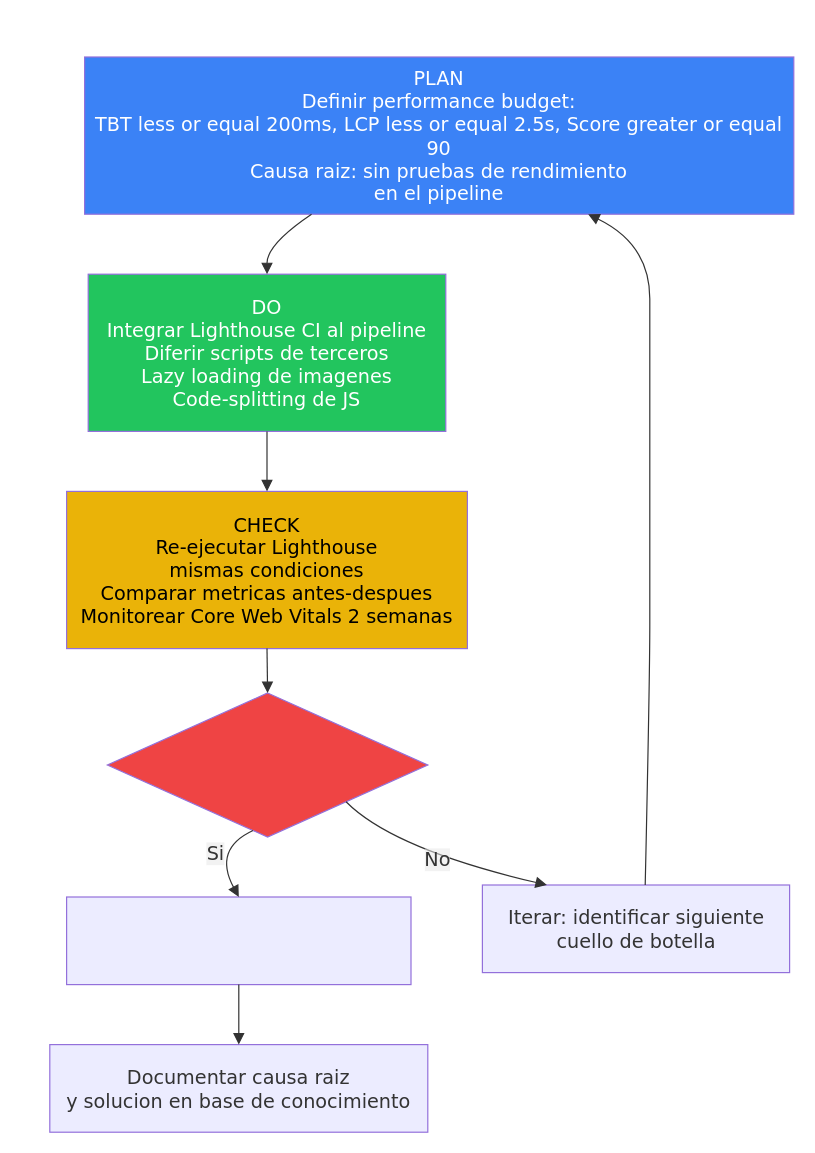
This 815x1153 diagram has some shape labels left out. Each missing label, with the centre of its shape:
"ACT Se cumplio el umbral?" belongs at (267,764).
"Formalizar performance budget como gate obligatorio en CI-CD" belongs at (238,940).
